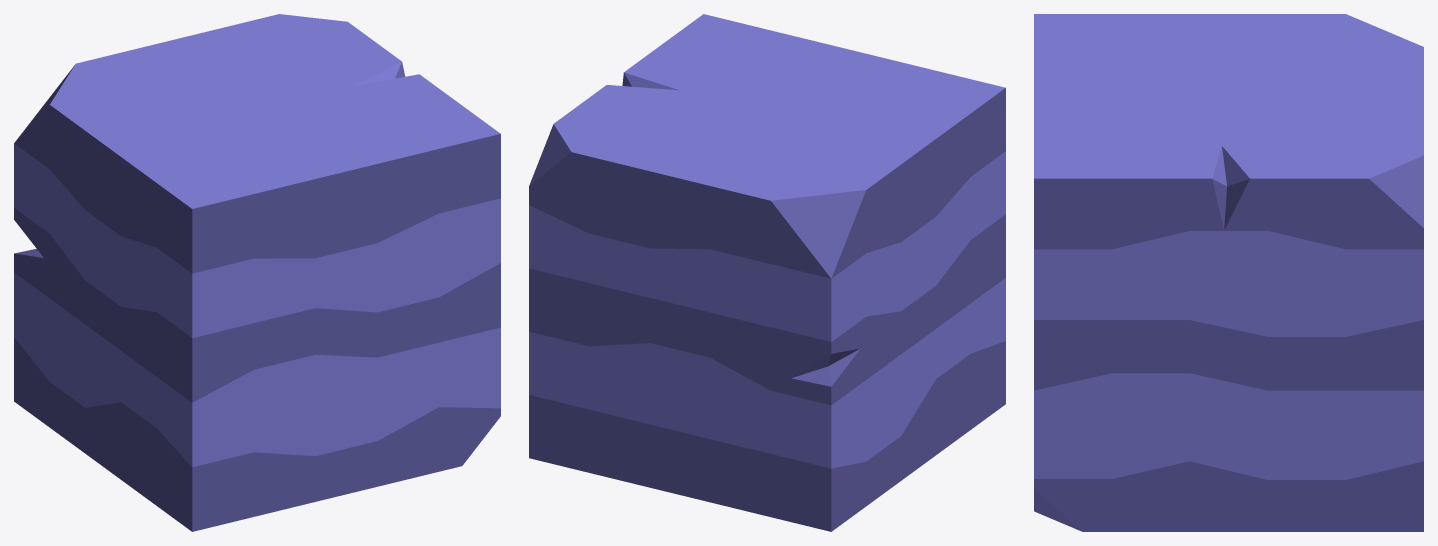
File: Stone008.fbx
3 renders of one model, left to right at view 1: azimuth 30°, elevation 25°; view 2: azimuth 150°, elevation 25°; view 3: azimuth 270°, elevation 25°, orthographic. The views are drawn at different scales.
Visible parts, largest first — view 1: Stone008; view 2: Stone008; view 3: Stone008.
Boxes of the visible parts, x1,y1,x2,y2 form: Stone008: [14, 14, 500, 531]; Stone008: [529, 14, 1005, 531]; Stone008: [1034, 14, 1423, 531].
Bounding box in the file's own units: 156 × 156 × 156.
